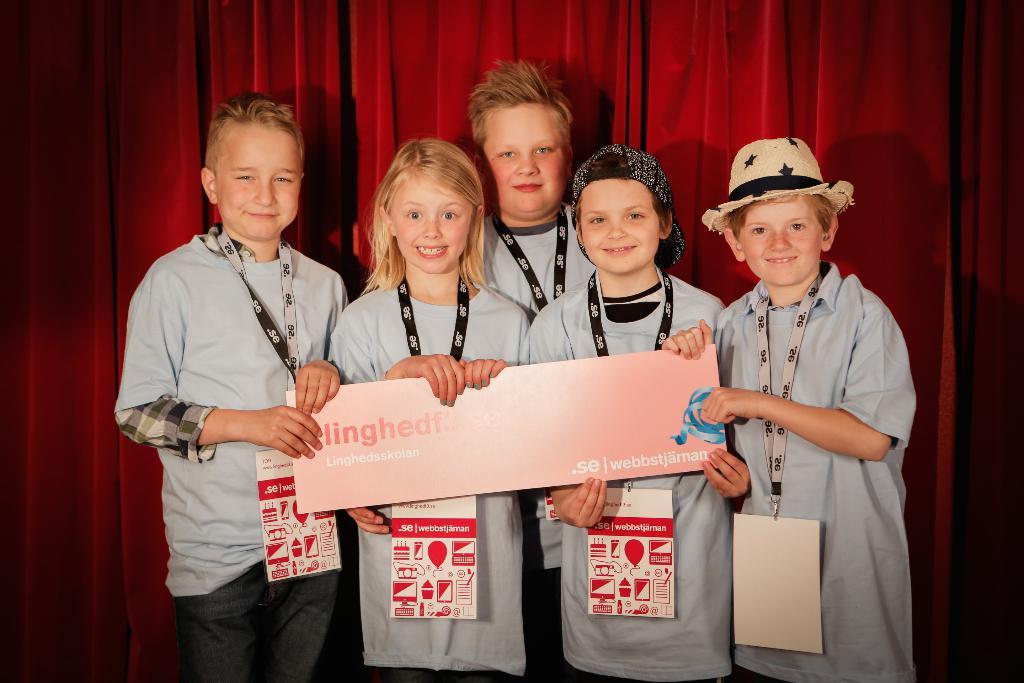Hat: (702, 133, 854, 236), (574, 140, 688, 266)
